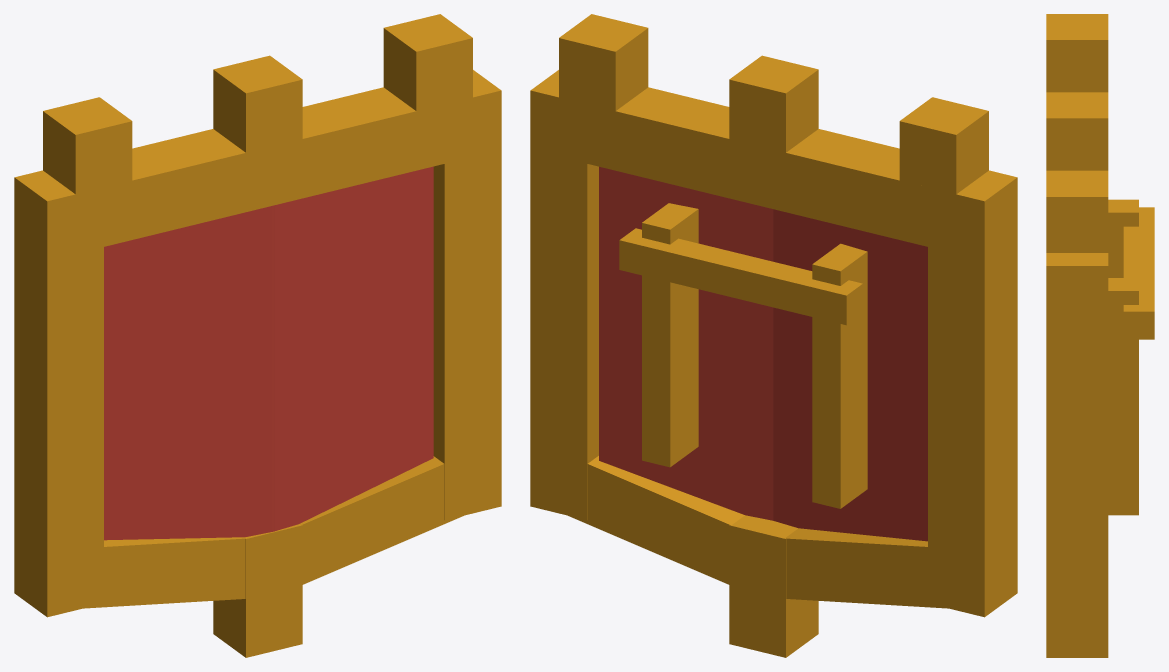
Rendered from KingShield.fbx.
3 renders of one model, left to right at view 1: azimuth 30°, elevation 25°; view 2: azimuth 150°, elevation 25°; view 3: azimuth 270°, elevation 25°, orthographic. The views are drawn at different scales.
Visible parts, largest first — view 1: Cube.014, Cube.001; view 2: Cube.014, Cube.001, Cube.017; view 3: Cube.014, Cube.017.
Part boxes in pixels (<box>): Cube.014: <box>14,14,501,657</box>; Cube.001: <box>104,166,433,540</box>; Cube.014: <box>530,14,1017,657</box>; Cube.001: <box>599,166,927,541</box>; Cube.017: <box>619,203,867,508</box>; Cube.014: <box>1046,14,1108,657</box>; Cube.017: <box>1108,199,1154,515</box>.
Bounding box in the file's own units: 160 × 190 × 35.
